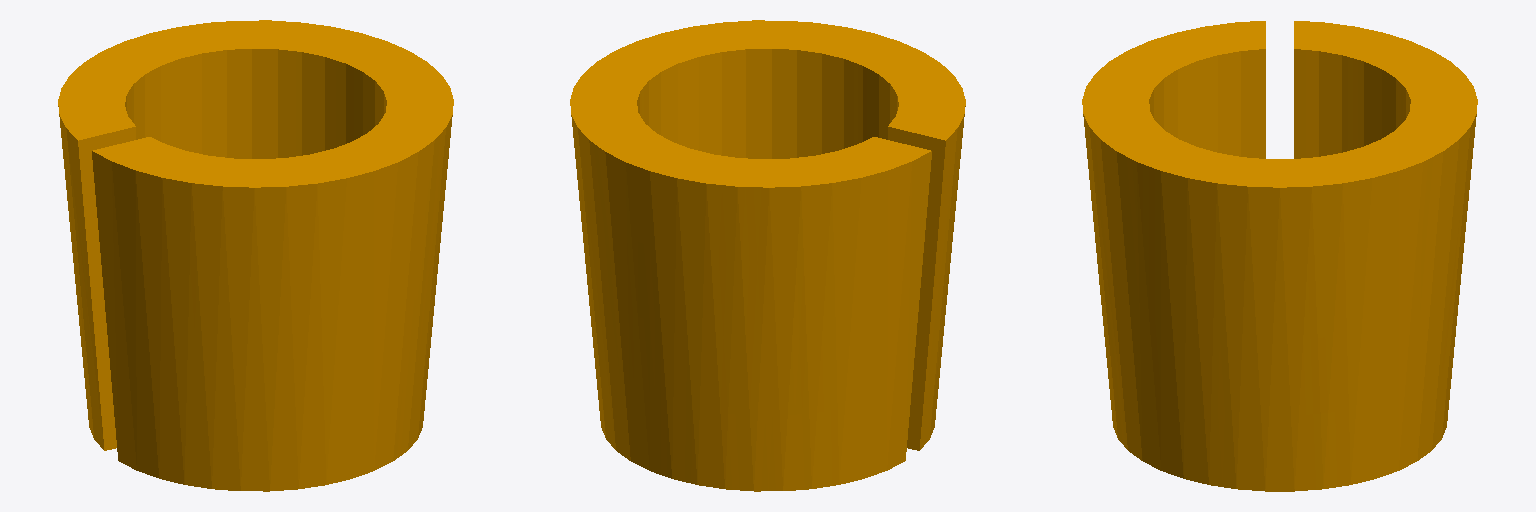
robot.urdf — 00388_socket:
<?xml version="1.0"?>
<robot name="00388_socket">
	<link name="00388_socket">
		<visual>
			<geometry>
				<mesh filename="../mesh/00388/asset_socket.obj"/>
			</geometry>
		</visual>
		<collision>
			<geometry>
				<mesh filename="../mesh/00388/asset_socket.obj"/>
			</geometry>
			<sdf resolution="256"/>
		</collision>
	</link>
</robot>

--- Facts derived from the render (not from the file) ---
The picture shows the robot from 3 angles, left to right: view 1: azimuth 30°, elevation 25°; view 2: azimuth 150°, elevation 25°; view 3: azimuth 270°, elevation 25°; orthographic projection.
Model 00388_socket with 1 links and 0 joints (none), rooted at 00388_socket, posed all joints at 0.
Links seen in each view (by area): view 1: 00388_socket; view 2: 00388_socket; view 3: 00388_socket.
Link boxes in pixels (x1,y1,x2,y2): 00388_socket: (58, 20, 453, 491); 00388_socket: (570, 20, 965, 491); 00388_socket: (1082, 21, 1477, 491).
Size in the robot's own frame: 0.0167 by 0.0167 by 0.0148 metres.
1 mesh visuals loaded from 1 distinct referenced files (1 OBJ).
